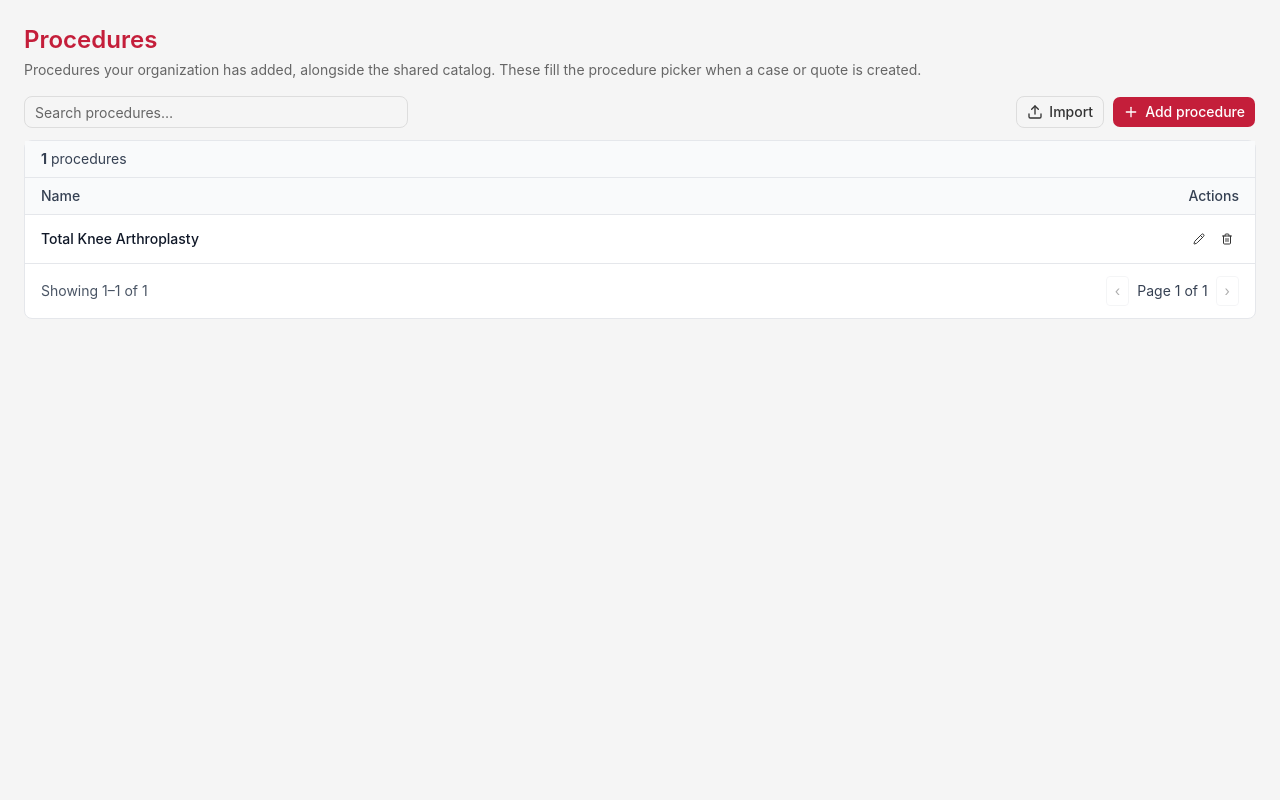
Test case: removing › keeps the dialog open on a 409 so the counts can be read
Expected: the text "Total Knee Arthroplasty" is shown, [41,230,199,247]
Click the button named "Remove Total Knee Arthroplasty" at (1227, 239), box [1215,227,1239,251]
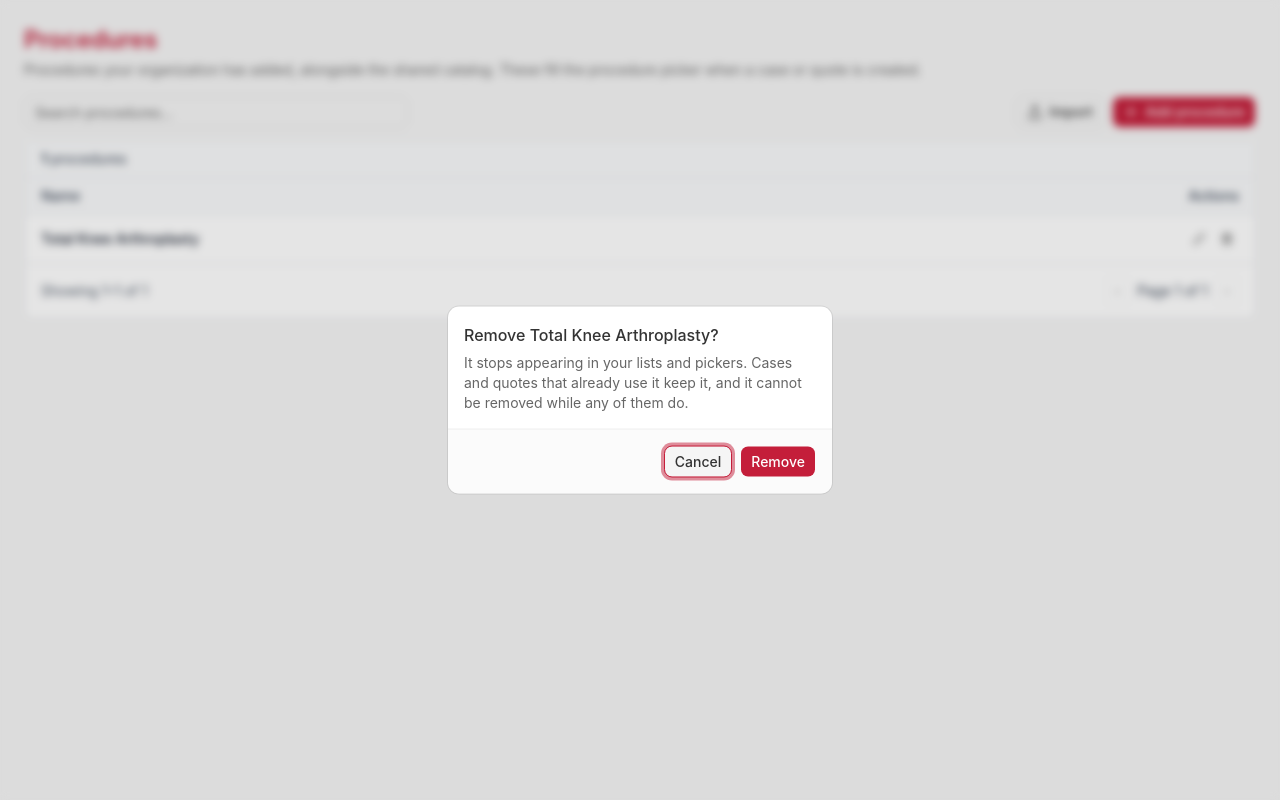
Click the button "Remove" at (778, 462), box [740,446,816,478]
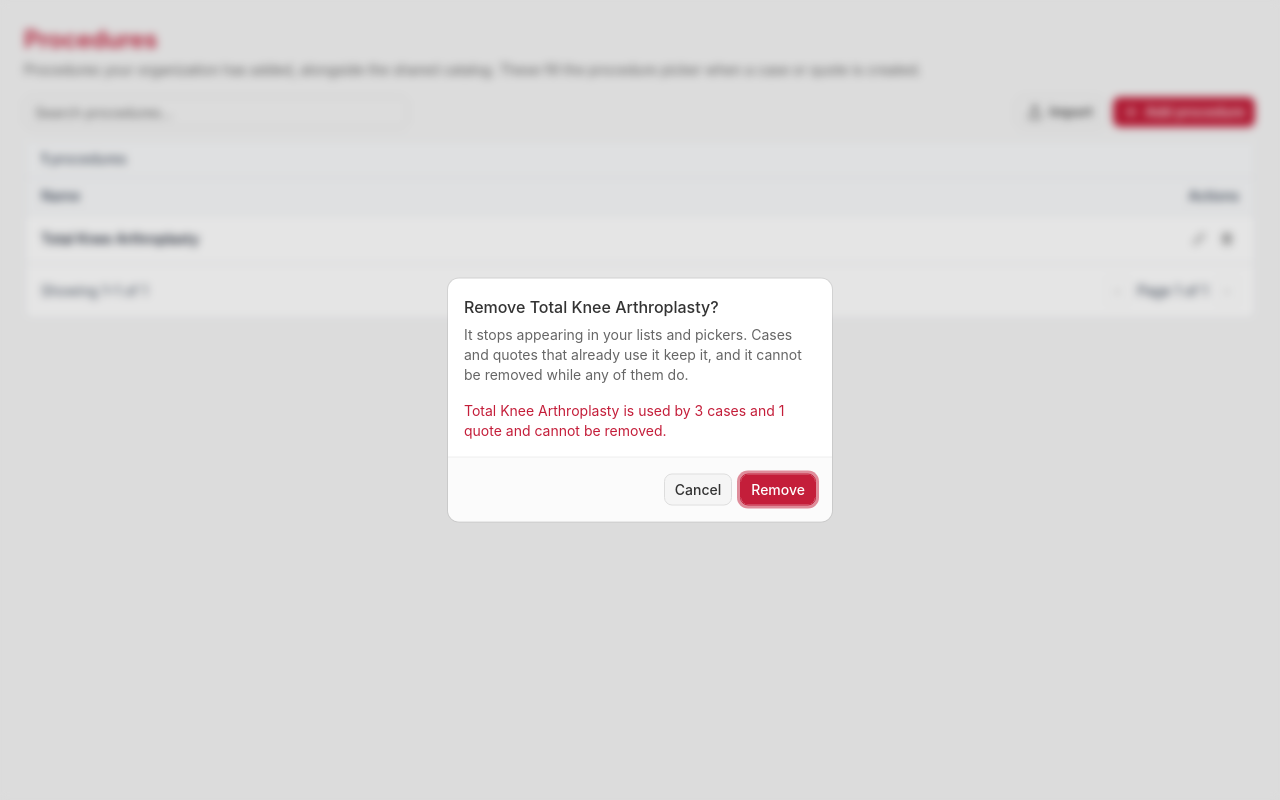
Result: the heading "Remove Total Knee Arthroplasty?" is shown at [464,294,719,318]
Result: the text "Total Knee Arthroplasty is used by 3 cases and 1 quote and cannot be removed." is shown at [464,400,816,440]
